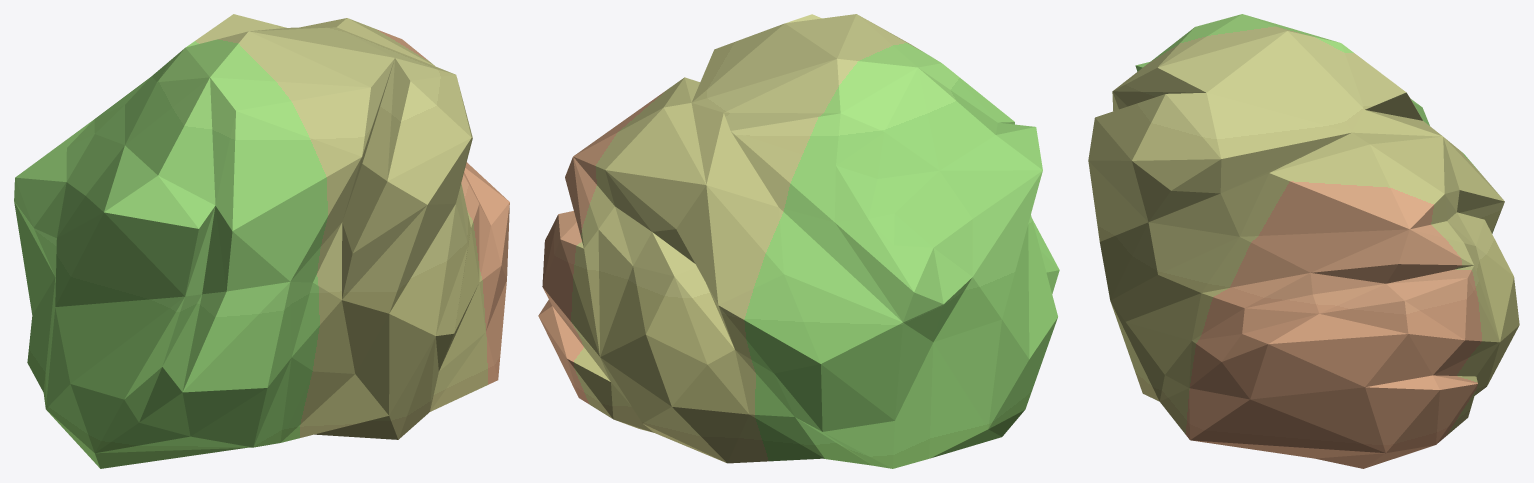
File: DC_Rock3.fbx
3 views of the same model, side by side, from view 1: azimuth 30°, elevation 25°; view 2: azimuth 150°, elevation 25°; view 3: azimuth 270°, elevation 25° (orthographic). The views are drawn at different scales.
Visible parts, largest first — view 1: Rock3; view 2: Rock3; view 3: Rock3.
Boxes of the visible parts, box(x1,y1,x2,y2) form: Rock3: box(14, 14, 509, 468); Rock3: box(538, 14, 1059, 468); Rock3: box(1088, 14, 1519, 468).
Bounding box in the file's own units: 0.9107 × 0.7766 × 0.8354.
Materials: 1 (1 with a texture image).
